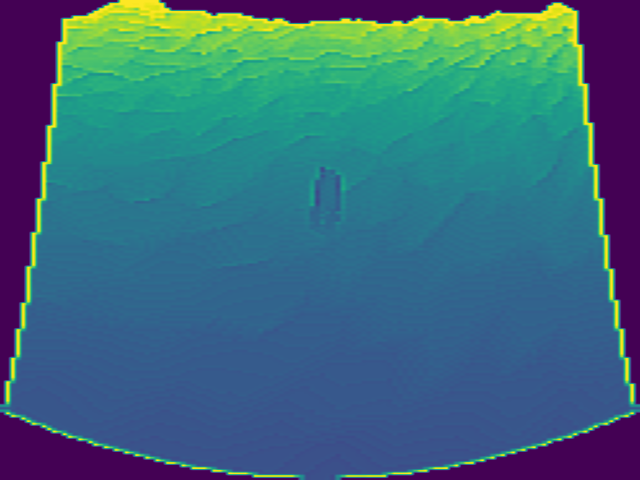car_0198: (309, 165, 344, 228)
